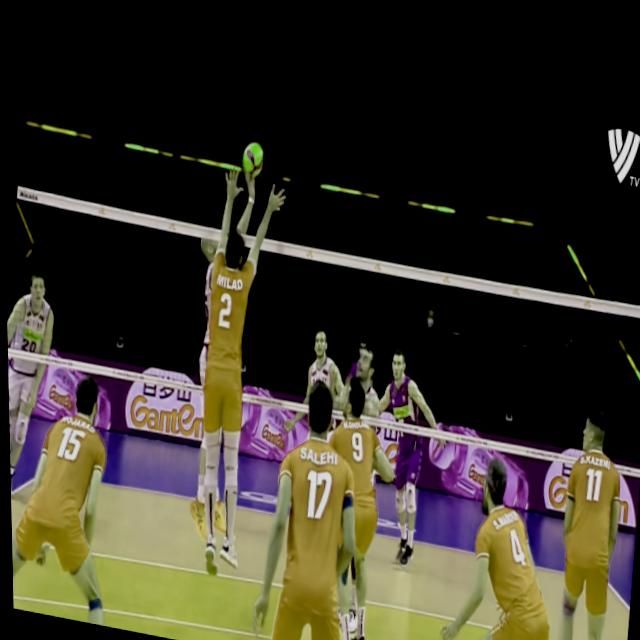player: (176, 162, 291, 587), (245, 364, 369, 640), (430, 437, 590, 640), (6, 360, 125, 625), (301, 364, 402, 640), (535, 389, 630, 640), (361, 332, 453, 567), (4, 255, 61, 509), (339, 333, 388, 477), (296, 312, 349, 408)
